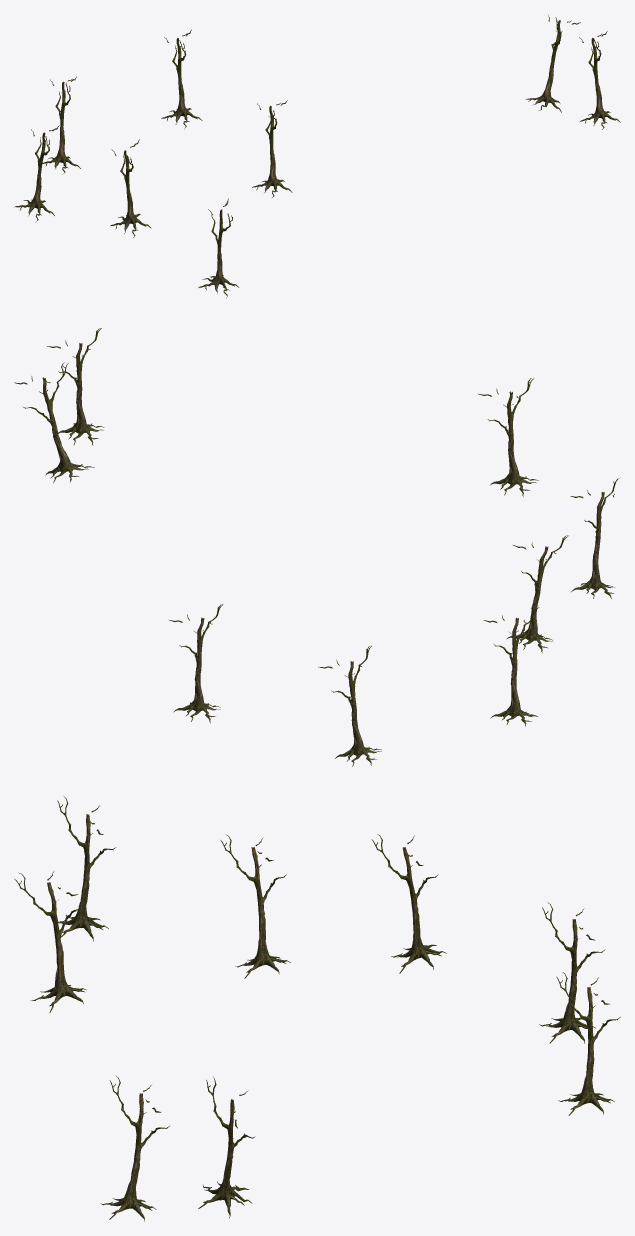
The model's file is treeB.fbx.
The picture shows the model from 3 angles, top to bottom: view 1: azimuth 30°, elevation 25°; view 2: azimuth 150°, elevation 25°; view 3: azimuth 270°, elevation 25°; orthographic projection. The views are drawn at different scales.
Visible parts, largest first — view 1: m009002_0_3, m009002_0_6, m009002_0_4, m009002_0, m009002_0_5, m009002_0_7, m009002_0_1, m009002_0_2; view 2: m009002_0_2, m009002_0_1, m009002_0_4, m009002_0_7, m009002_0_6, m009002_0, m009002_0_5, m009002_0_3; view 3: m009002_0, m009002_0_3, m009002_0_6, m009002_0_1, m009002_0_7, m009002_0_4, m009002_0_5, m009002_0_2.
Part boxes in pixels (bbox=[...]): m009002_0_3: bbox=[198, 198, 239, 298]; m009002_0_6: bbox=[161, 30, 202, 129]; m009002_0_4: bbox=[14, 125, 59, 222]; m009002_0: bbox=[579, 31, 620, 129]; m009002_0_5: bbox=[110, 139, 151, 237]; m009002_0_7: bbox=[42, 76, 80, 173]; m009002_0_1: bbox=[252, 100, 292, 197]; m009002_0_2: bbox=[525, 15, 580, 112]; m009002_0_2: bbox=[14, 362, 94, 483]; m009002_0_1: bbox=[478, 378, 538, 496]; m009002_0_4: bbox=[483, 605, 539, 726]; m009002_0_7: bbox=[318, 645, 381, 766]; m009002_0_6: bbox=[169, 604, 223, 723]; m009002_0: bbox=[47, 328, 104, 445]; m009002_0_5: bbox=[506, 535, 568, 653]; m009002_0_3: bbox=[570, 477, 620, 598]; m009002_0: bbox=[100, 1076, 169, 1221]; m009002_0_3: bbox=[14, 871, 86, 1012]; m009002_0_6: bbox=[556, 972, 620, 1115]; m009002_0_1: bbox=[53, 796, 116, 941]; m009002_0_7: bbox=[539, 902, 605, 1043]; m009002_0_4: bbox=[371, 834, 446, 973]; m009002_0_5: bbox=[220, 834, 290, 978]; m009002_0_2: bbox=[198, 1076, 255, 1218].
Size of the model in its own units: 344250 by 120715 by 254507.
8 materials, 8 textured.
